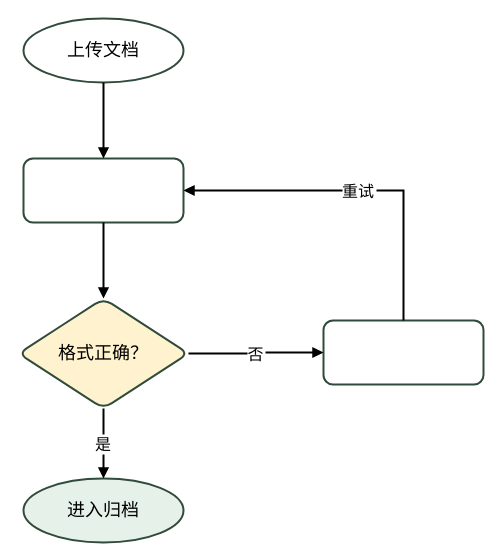
The diagram is 501 pixels wide and 560 high, and some of its shapes have lost their labels. The centre of each missing label's shape, as x and y in pixels:
"检查格式" goes at [103,190].
"退回修改" goes at [403,352].
